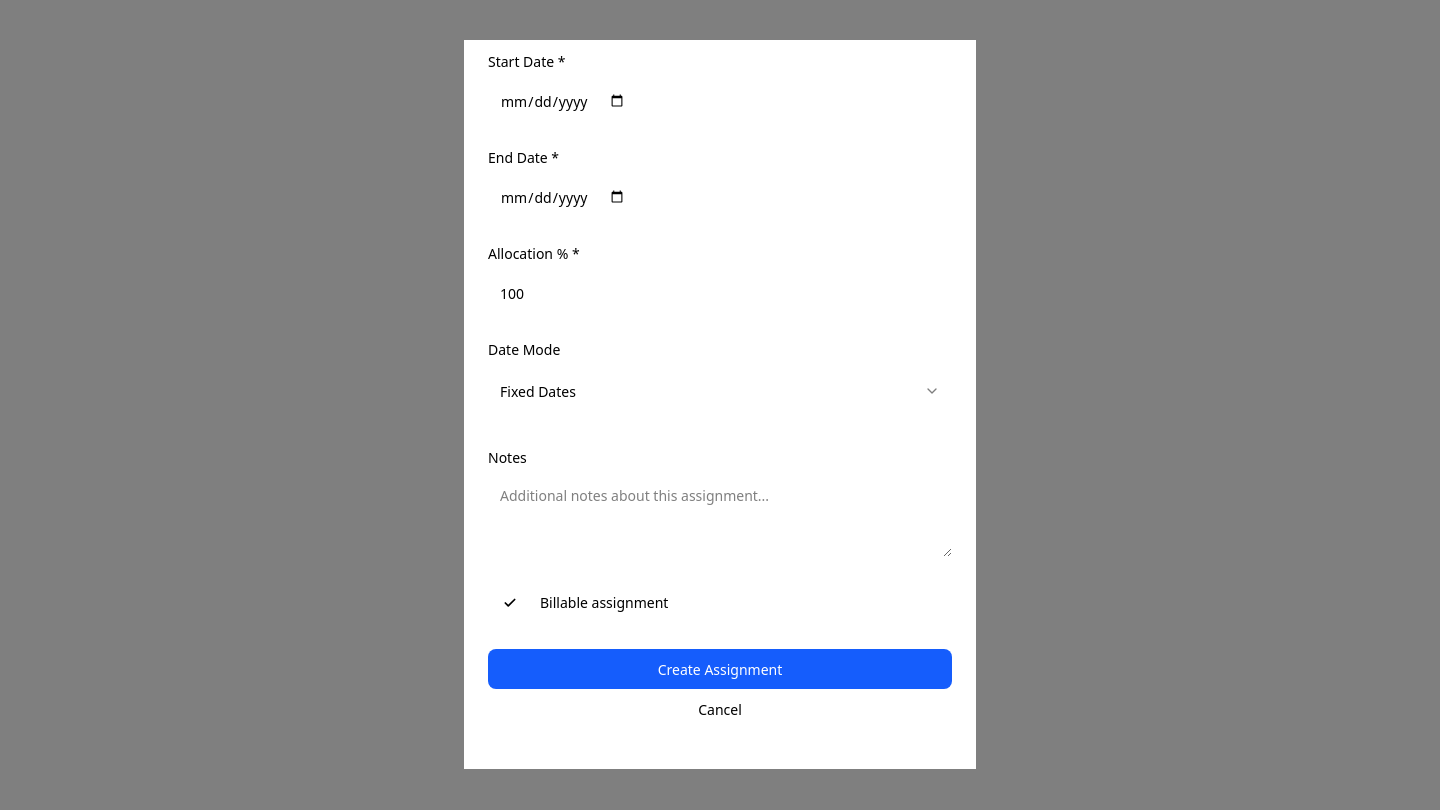
Test: AssignmentModalNew › Form Validation › shows error when submitting without role
This screenshot has width=1440, height=810.
(page scrolled)
Click the button "Create Assignment". click: (720,670)
box: [488,650,952,690]
(page scrolled)
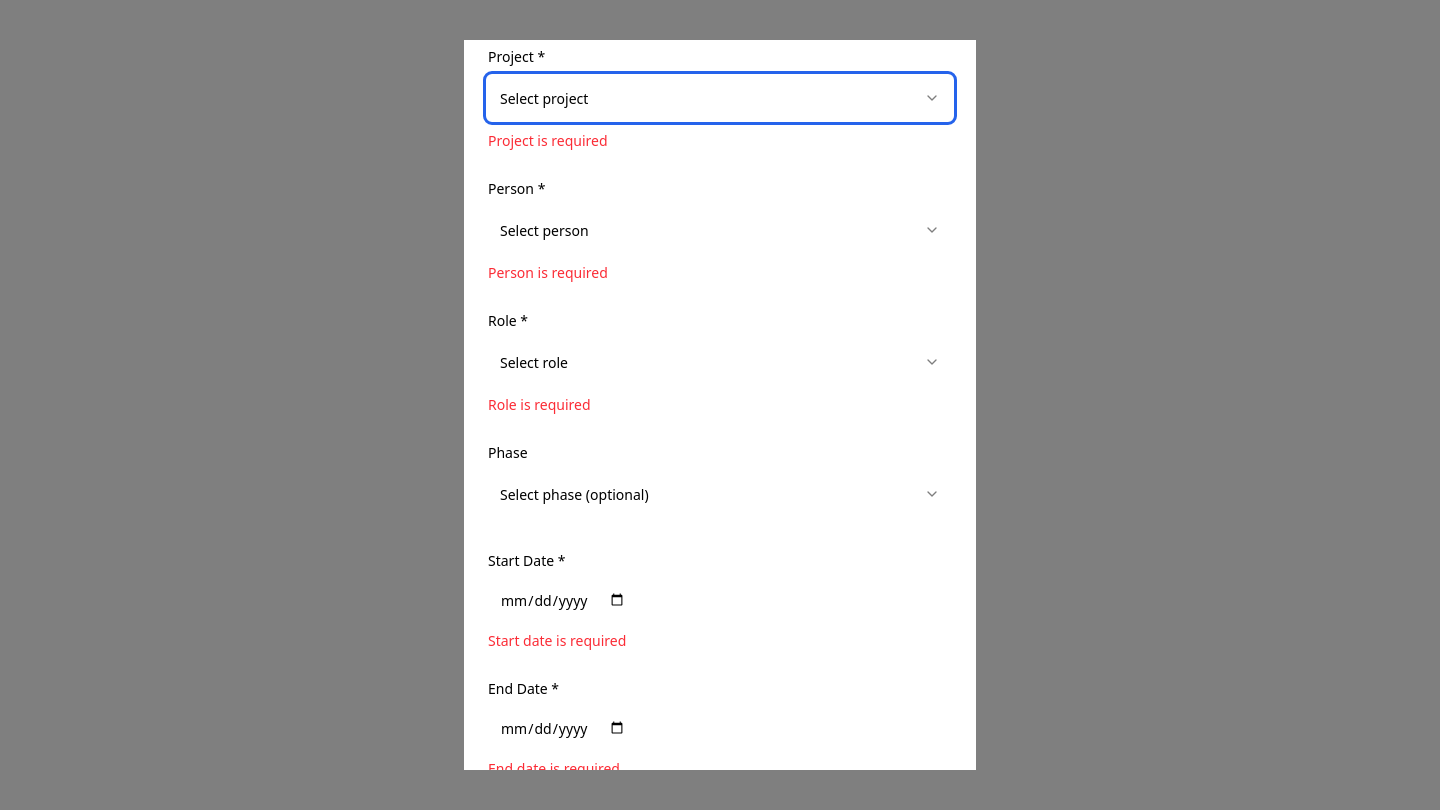
Expected: the text "Role is required" is shown, [488,396,591,414]
